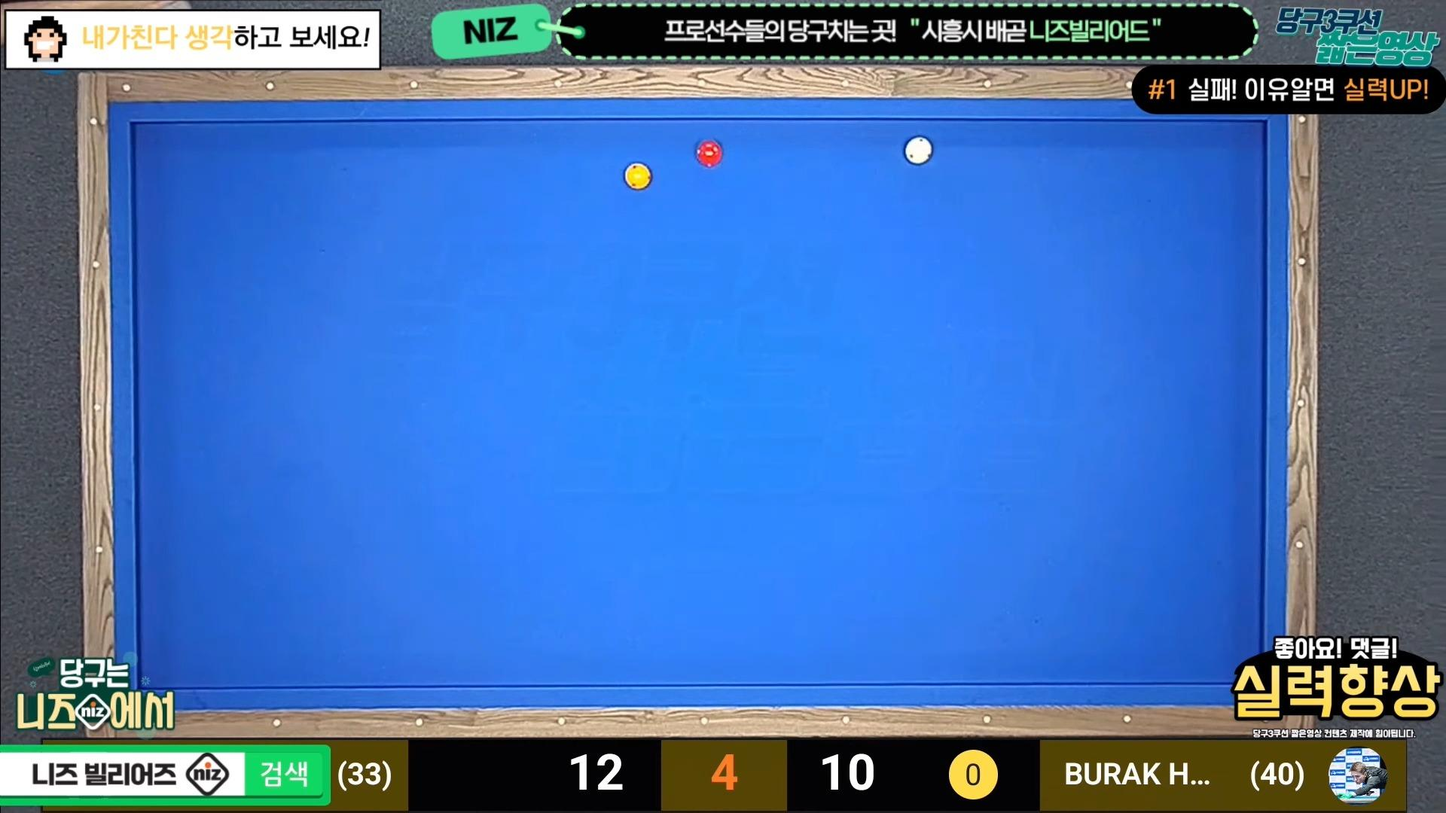Red: (695, 139, 727, 168)
White: (905, 136, 939, 165)
Yellow: (623, 163, 655, 192)
